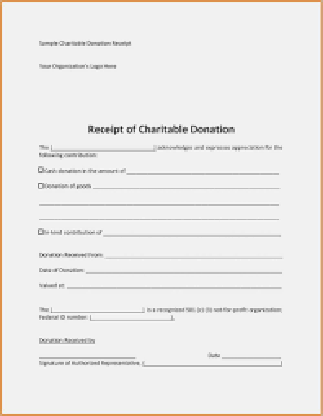checkbox: (36, 163, 46, 175), (36, 179, 46, 191), (36, 227, 46, 237)
textline: (36, 193, 282, 209), (103, 243, 284, 263), (65, 276, 285, 292), (83, 261, 285, 277), (36, 209, 284, 222), (91, 179, 282, 193), (101, 225, 282, 238), (126, 163, 281, 178), (52, 139, 157, 155), (142, 359, 285, 369), (38, 347, 139, 361), (51, 302, 145, 315), (222, 347, 284, 361), (90, 313, 175, 323)
